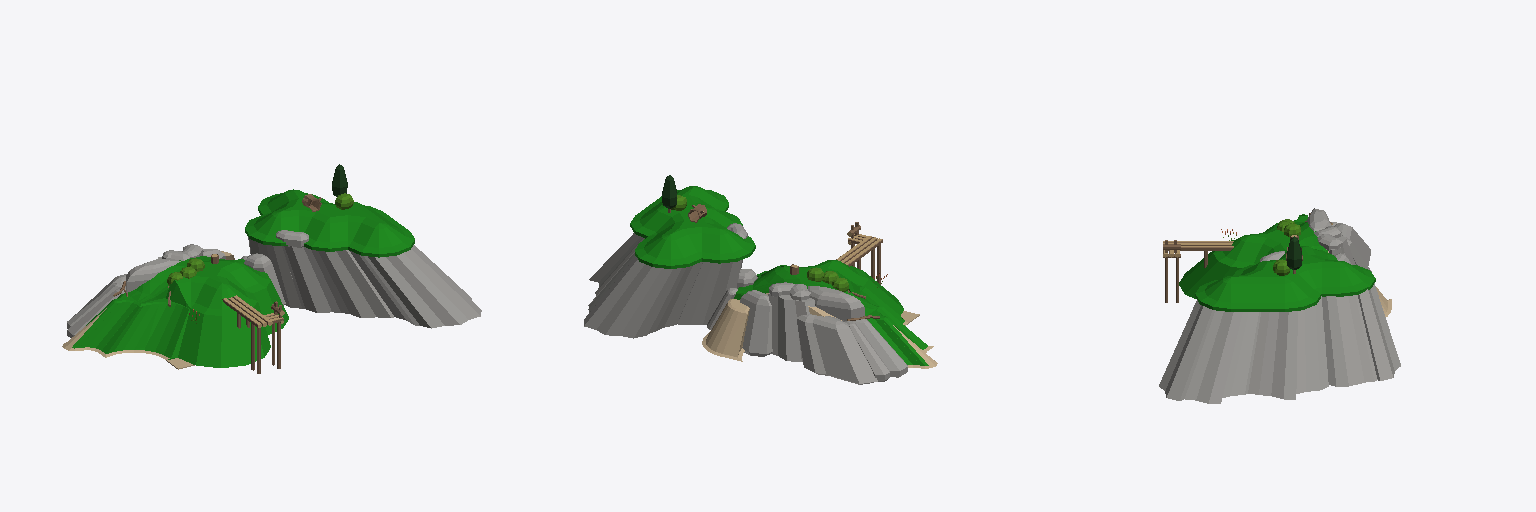
The model's file is island_base_1.obj.
3 views of the same model, side by side, from view 1: azimuth 30°, elevation 25°; view 2: azimuth 150°, elevation 25°; view 3: azimuth 270°, elevation 25° (orthographic).
Parts seen in each view (by area): view 1: island_base_1; view 2: island_base_1; view 3: island_base_1.
Part boxes in pixels (left/top/right/bottom): island_base_1: left=62, top=164, right=481, bottom=373; island_base_1: left=584, top=175, right=937, bottom=384; island_base_1: left=1159, top=208, right=1400, bottom=403.
Size of the model in its own units: 23.08 by 7.89 by 13.46.